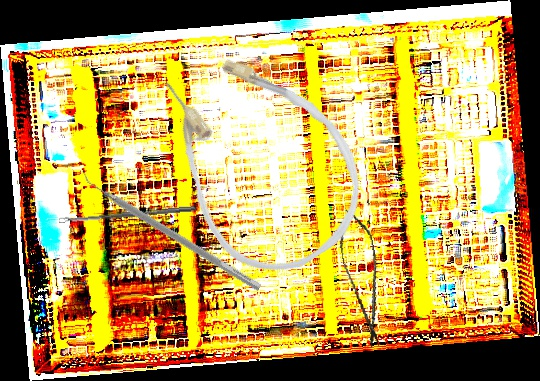Cannula: (130, 18, 390, 297)
Micro Scissor: (333, 205, 393, 350)
Spatula Surgical: (74, 167, 267, 292)
Surgical Spoon: (59, 204, 197, 224)
